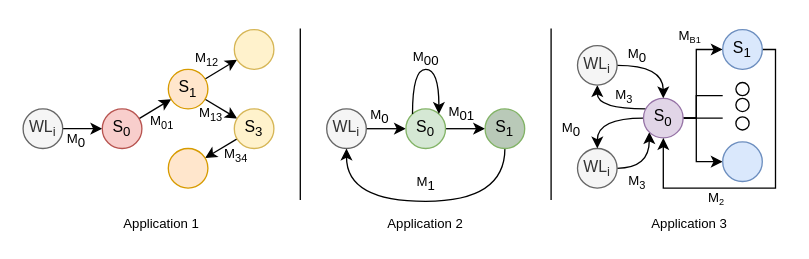
Image size: 809x259. Some labels were removed from this diagram. Each missing label, with the centre of its shape:
S 2: [253,48]
S 4: [187,167]
S n: [741,161]
